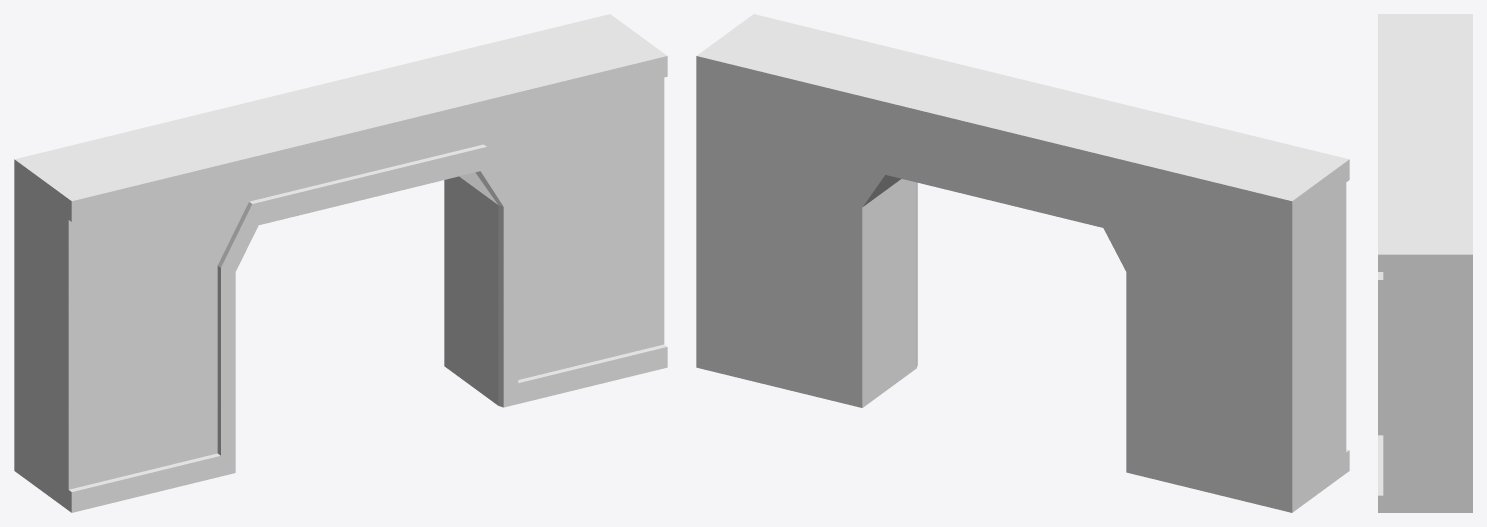
The model's file is Wall_DoorFrame.glb.
3 views of the same model, side by side, from view 1: azimuth 30°, elevation 25°; view 2: azimuth 150°, elevation 25°; view 3: azimuth 270°, elevation 25° (orthographic). The views are drawn at different scales.
Parts seen in each view (by area): view 1: Wall_DoorFrame; view 2: Wall_DoorFrame; view 3: Wall_DoorFrame.
Boxes of the visible parts, left/top/right/bottom form: Wall_DoorFrame: left=14, top=14, right=667, bottom=512; Wall_DoorFrame: left=696, top=14, right=1349, bottom=512; Wall_DoorFrame: left=1378, top=14, right=1472, bottom=512.
Bounding box in the file's own units: 6 × 3 × 1.
Materials: 1 (1 with a texture image).
